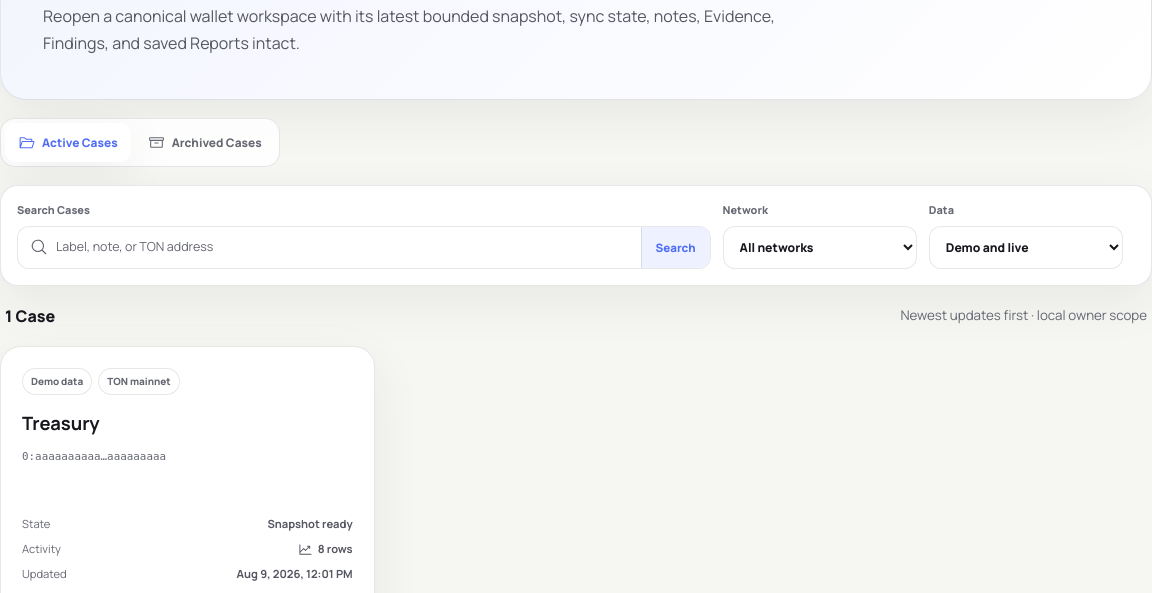
Test: GramCaseLibrary › switches to the archived catalog and restores a retained Case
Expected: the heading "Treasury" is shown, [22,410,100,436]
Click the tab "Archived Cases". click: coordinates (205, 143)
box: [135,124,275,162]
(page scrolled)
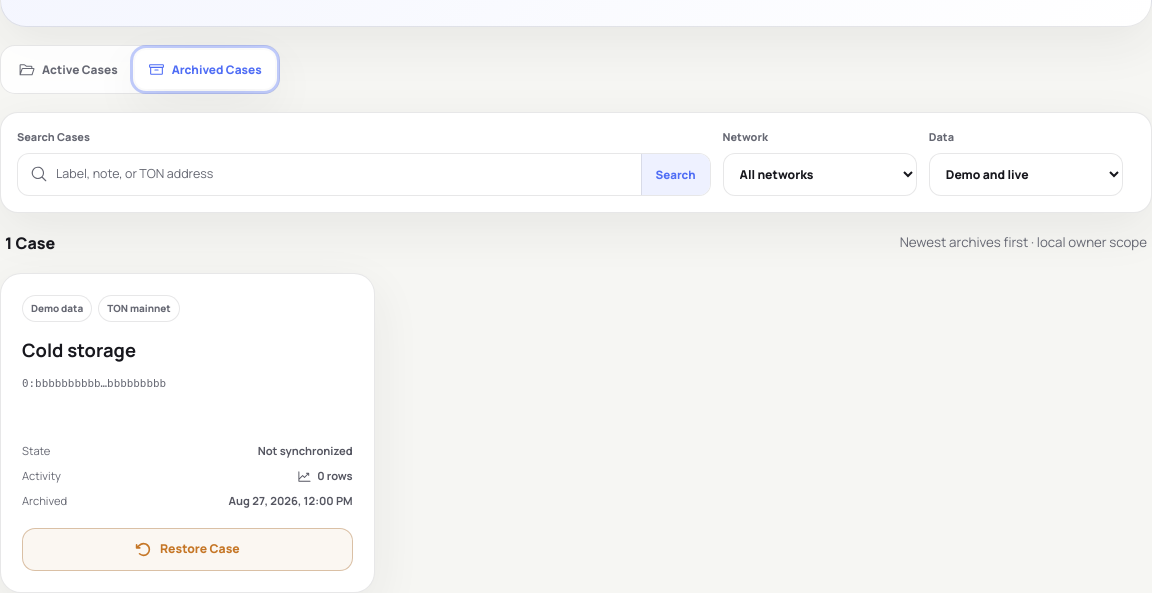
Expected: the heading "Cold storage" is shown, [22,337,136,363]
Expected: the text "Newest archives first · local owner scope" is shown, [900,233,1147,253]
Click the button with aria-label "Restore Case Cold storage". click: coordinates (187, 549)
box: [22,528,353,571]
(page scrolled)
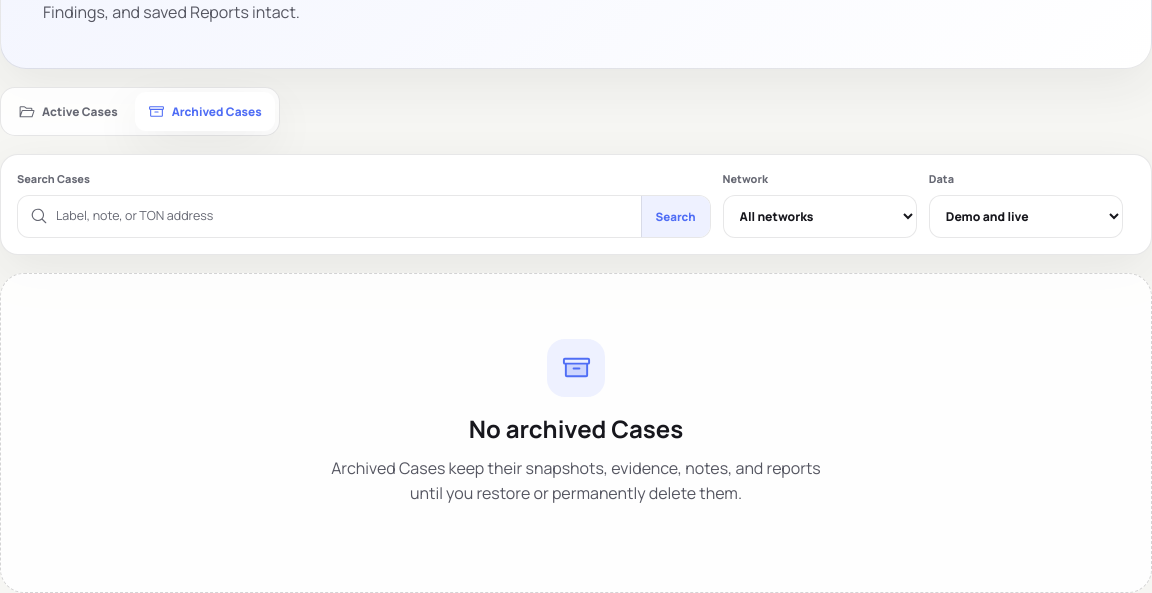
Expected: the heading "No archived Cases" is shown, [469,411,683,447]
